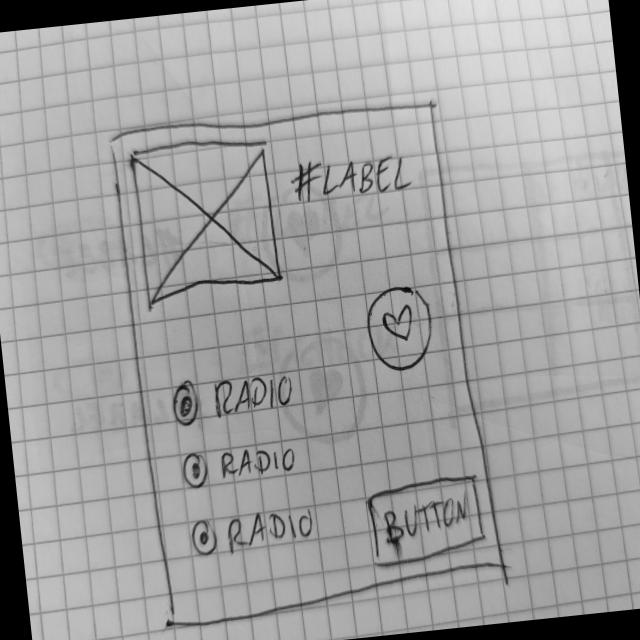button: (362, 472, 490, 572)
container: (107, 93, 514, 636)
icon-button: (361, 280, 440, 377)
image: (127, 130, 285, 308)
label: (287, 145, 417, 210)
radio: (169, 367, 299, 430), (189, 506, 319, 560), (179, 439, 302, 493)
